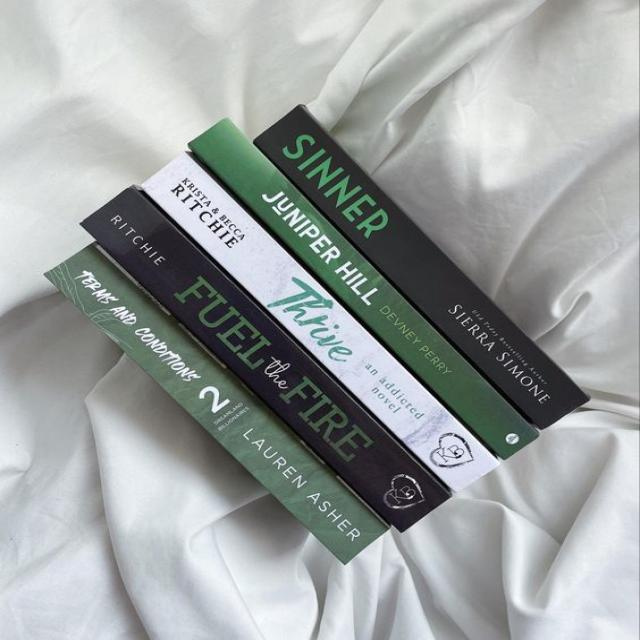book: (81, 186, 451, 532), (141, 153, 497, 493), (188, 118, 538, 460), (43, 241, 389, 564), (255, 105, 589, 430)
